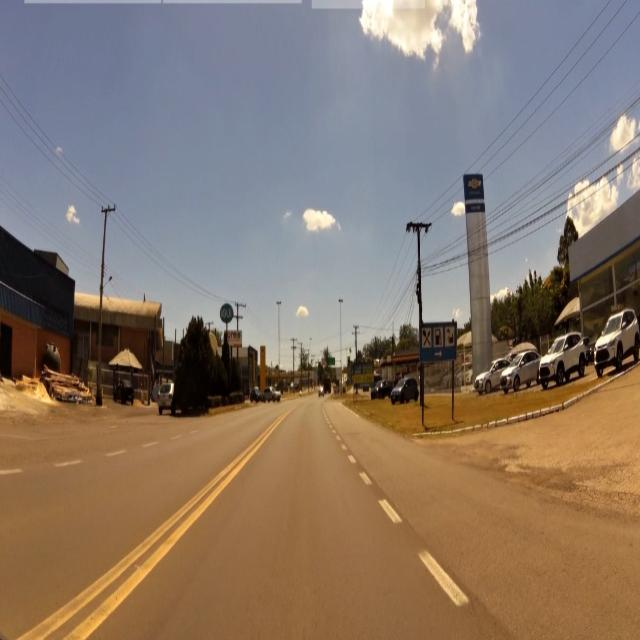LOC-6: (422, 326, 459, 362)
